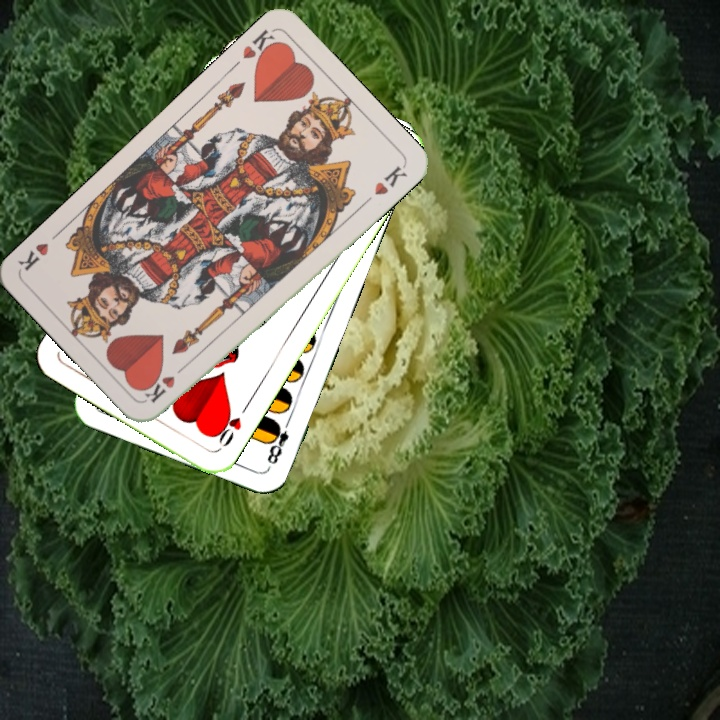E8: (263, 414, 294, 467)
HK: (142, 358, 192, 406), (238, 25, 283, 69)
HO: (210, 399, 252, 450)
